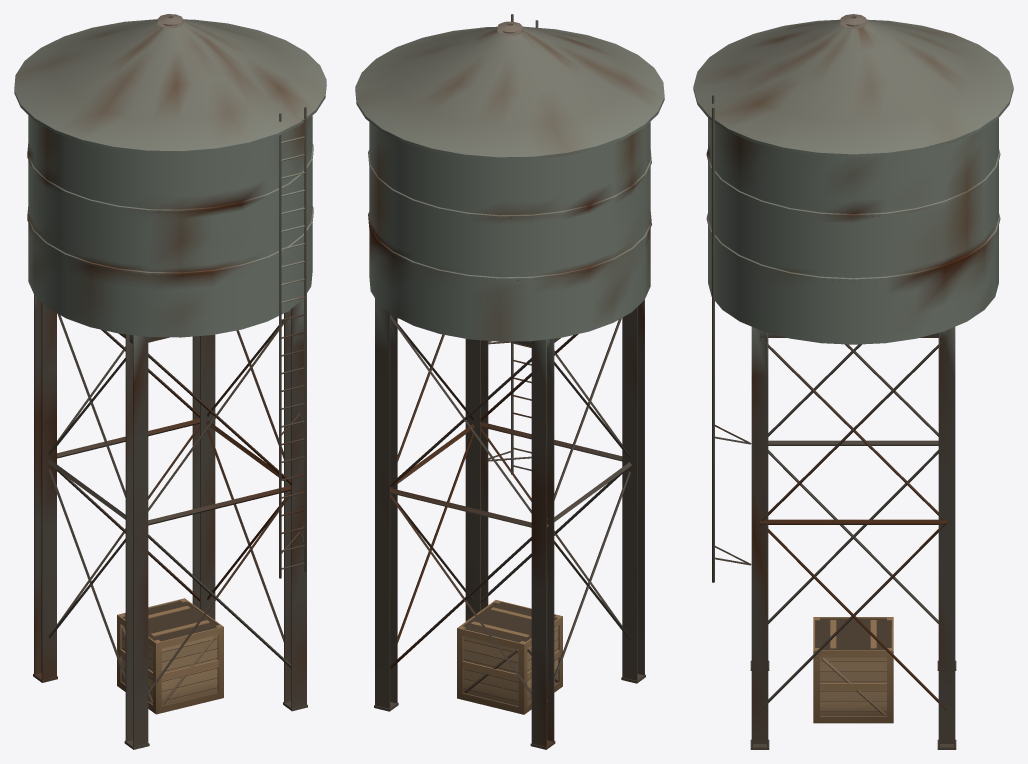
Rendered from sd_p4_utileria.glb.
3 renders of one model, left to right at view 1: azimuth 30°, elevation 25°; view 2: azimuth 150°, elevation 25°; view 3: azimuth 270°, elevation 25°, orthographic. The views are drawn at different scales.
Parts seen in each view (by area): view 1: water_tower, crate_a; view 2: water_tower, crate_a; view 3: water_tower, crate_a.
Boxes of the visible parts, left/top/right/bottom form: water_tower: left=14, top=14, right=326, bottom=749; crate_a: left=117, top=598, right=223, bottom=714; water_tower: left=355, top=14, right=664, bottom=749; crate_a: left=457, top=600, right=562, bottom=714; water_tower: left=693, top=14, right=1013, bottom=749; crate_a: left=813, top=617, right=893, bottom=723.
Bounding box in the file's own units: 4.8 × 11.4 × 4.8.
